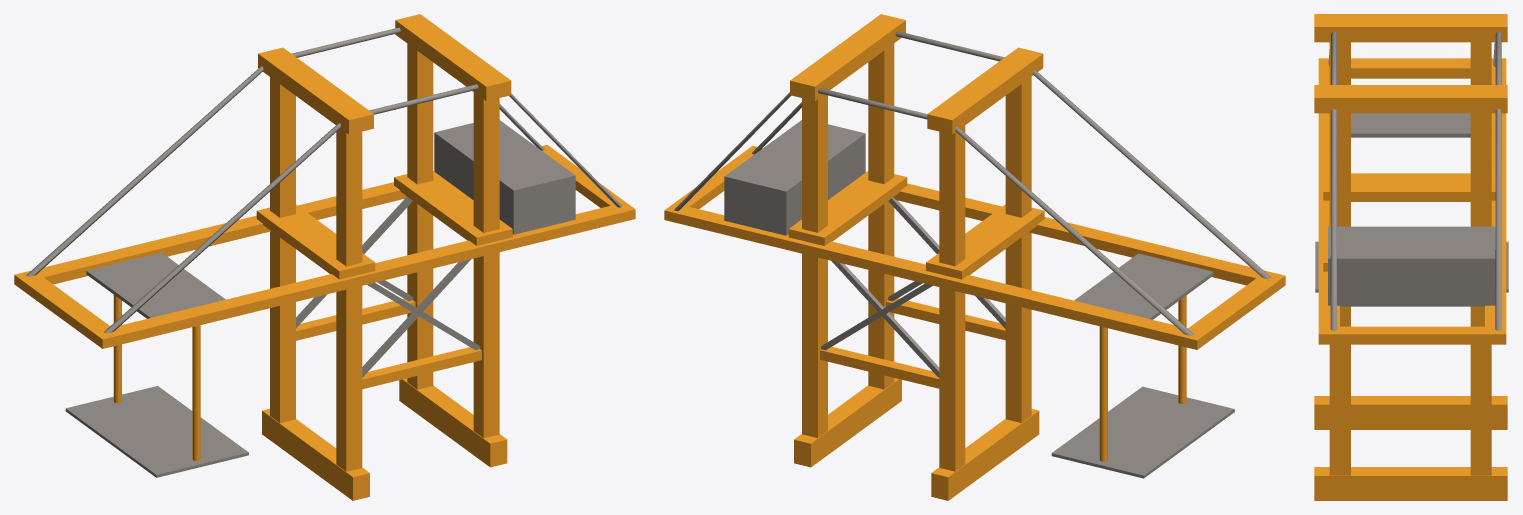
The model's file is Construction_4.fbx.
The picture shows the model from 3 angles, left to right: view 1: azimuth 30°, elevation 25°; view 2: azimuth 150°, elevation 25°; view 3: azimuth 270°, elevation 25°; orthographic projection. The views are drawn at different scales.
Visible parts, largest first — view 1: Construction_4; view 2: Construction_4; view 3: Construction_4.
Part boxes in pixels (x1=…): Construction_4: x1=14, y1=14, x2=635, y2=500; Construction_4: x1=664, y1=14, x2=1285, y2=500; Construction_4: x1=1314, y1=14, x2=1508, y2=500.
Size of the model in its own units: 1584 by 1084 by 471.
